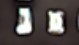MISSING: (9, 3, 39, 40), (42, 3, 72, 40)
